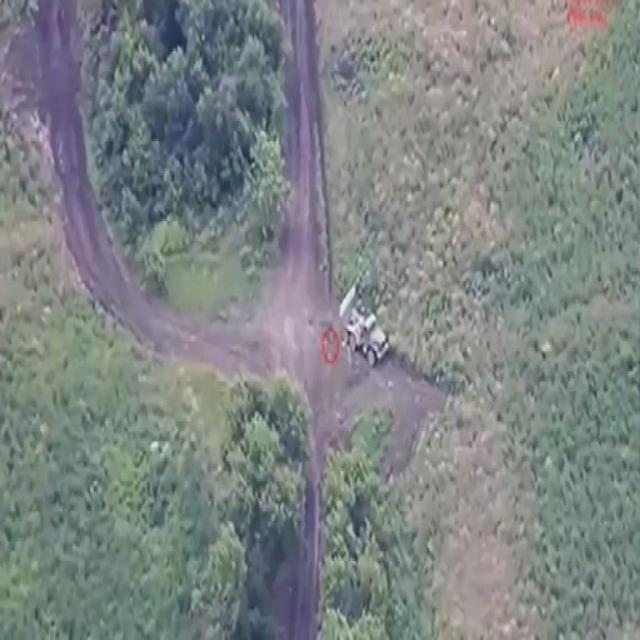MLRS: (335, 276, 389, 366)
